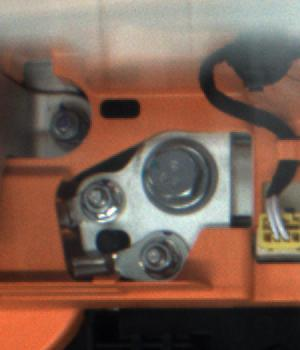nut_b: (136, 129, 223, 215)
